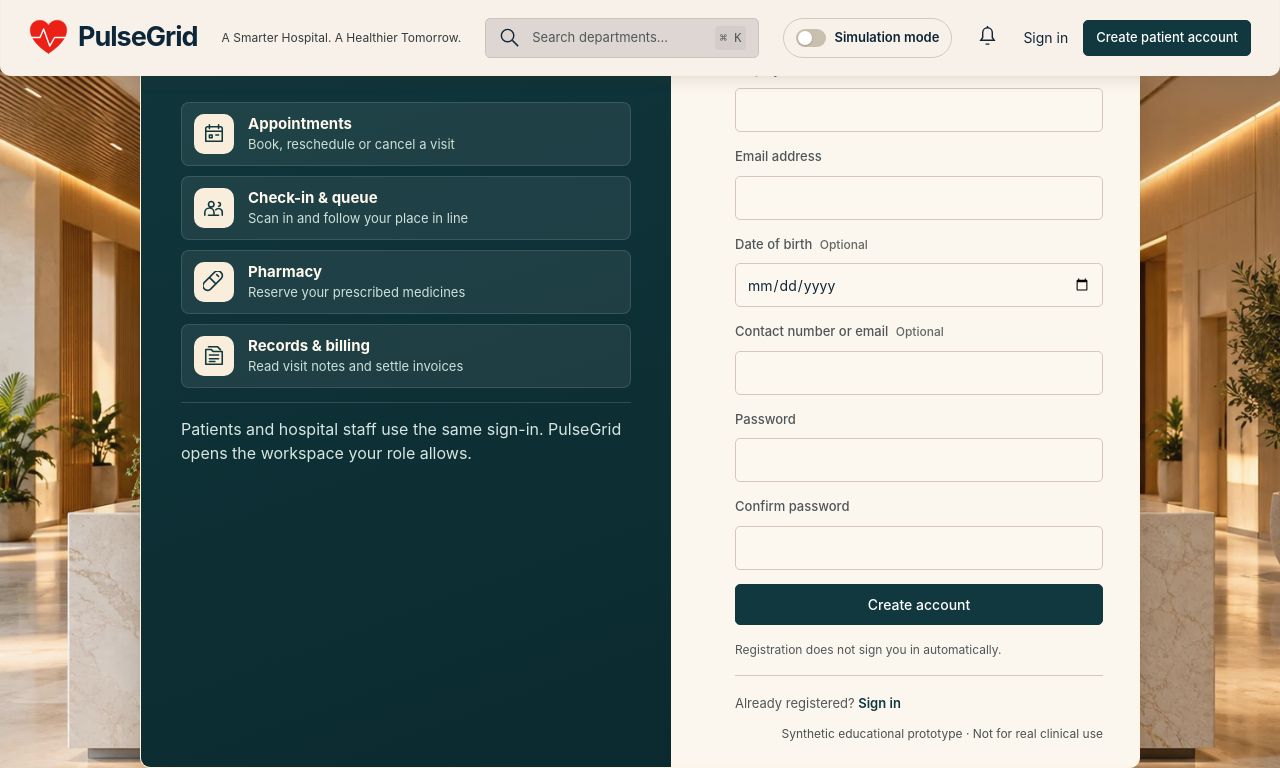
authentication pages › validates registration fields and password confirmation before sending
(page scrolled)
Click the button "Create account": [919, 604] box top-left (735, 584), bottom-right (1103, 625)
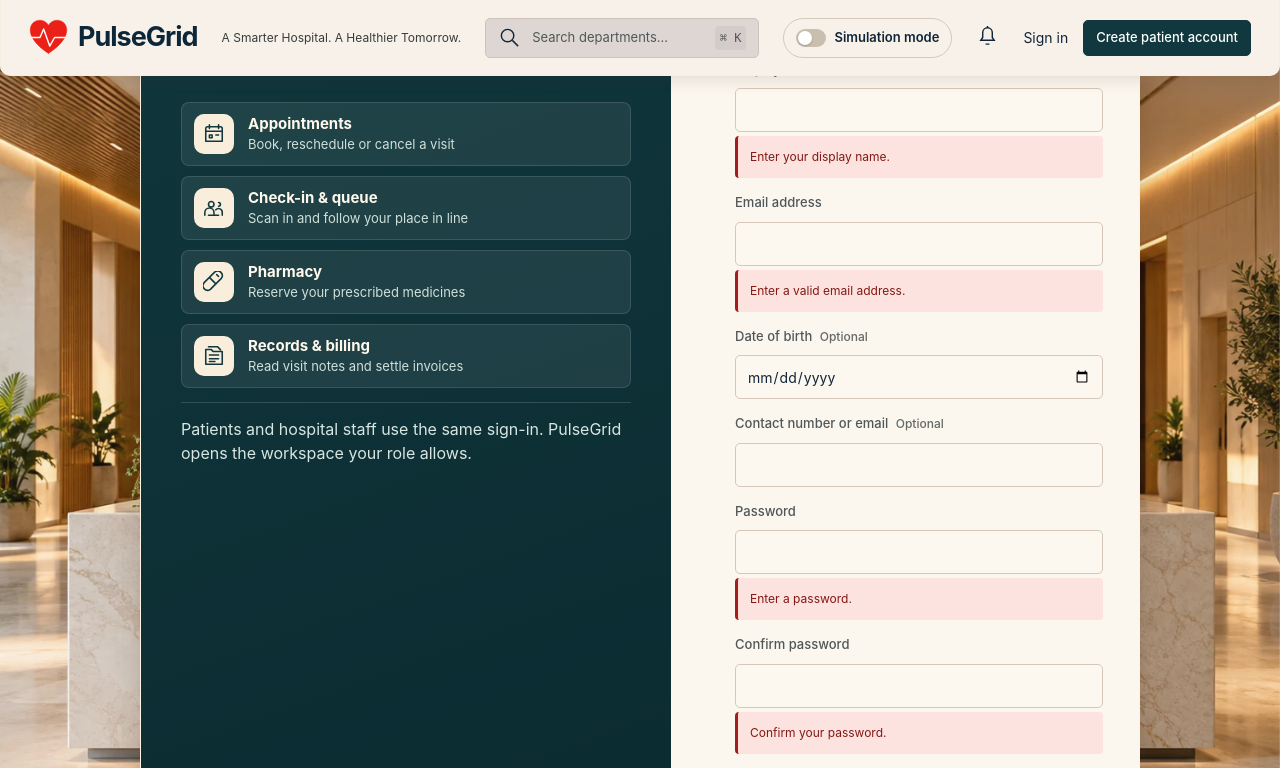
Expected: the text "Enter your display name." is shown, top-left (735, 136), bottom-right (1103, 178)
Expected: the text "Enter a valid email address." is shown, top-left (735, 270), bottom-right (1103, 312)
Expected: the text "Enter a password." is shown, top-left (735, 578), bottom-right (1103, 620)
In the password field labelled "Password": [919, 552] box top-left (735, 530), bottom-right (1103, 574), type "provided-password"
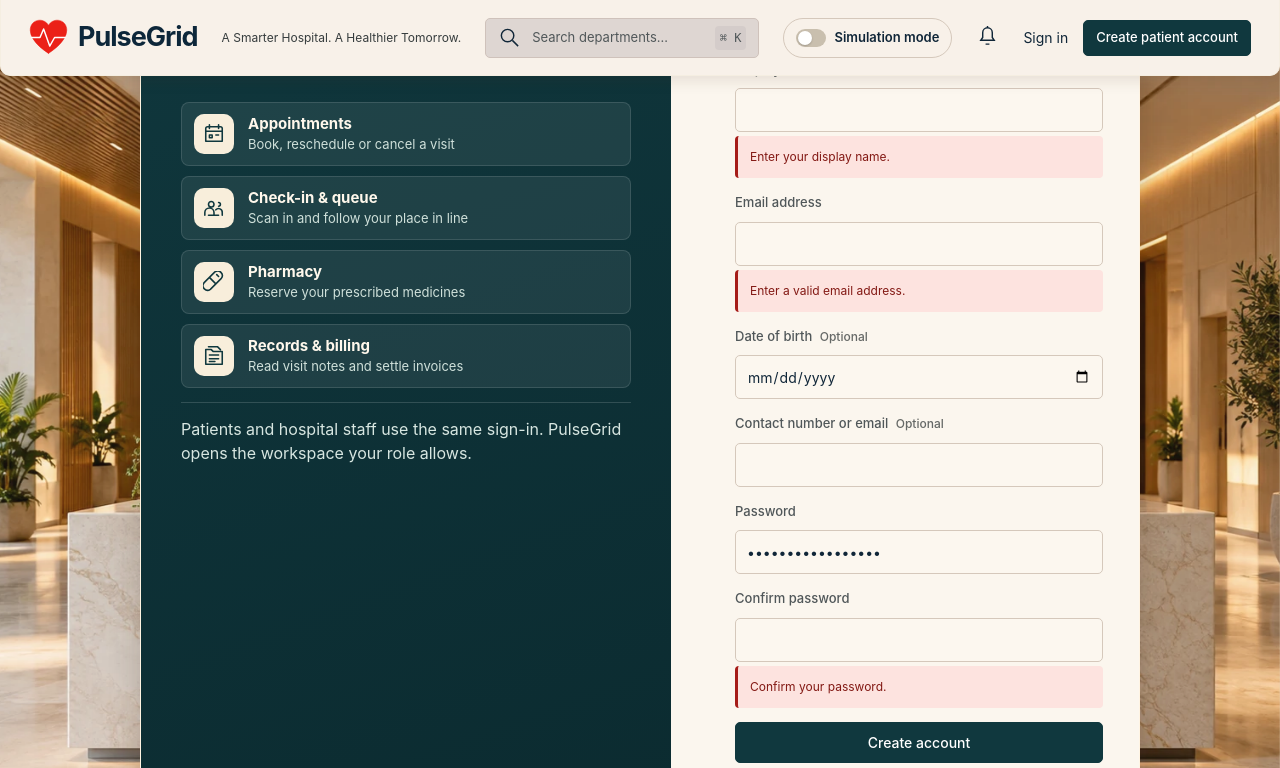
In the password field labelled "Confirm password": [919, 640] box top-left (735, 618), bottom-right (1103, 662), type "different-password"
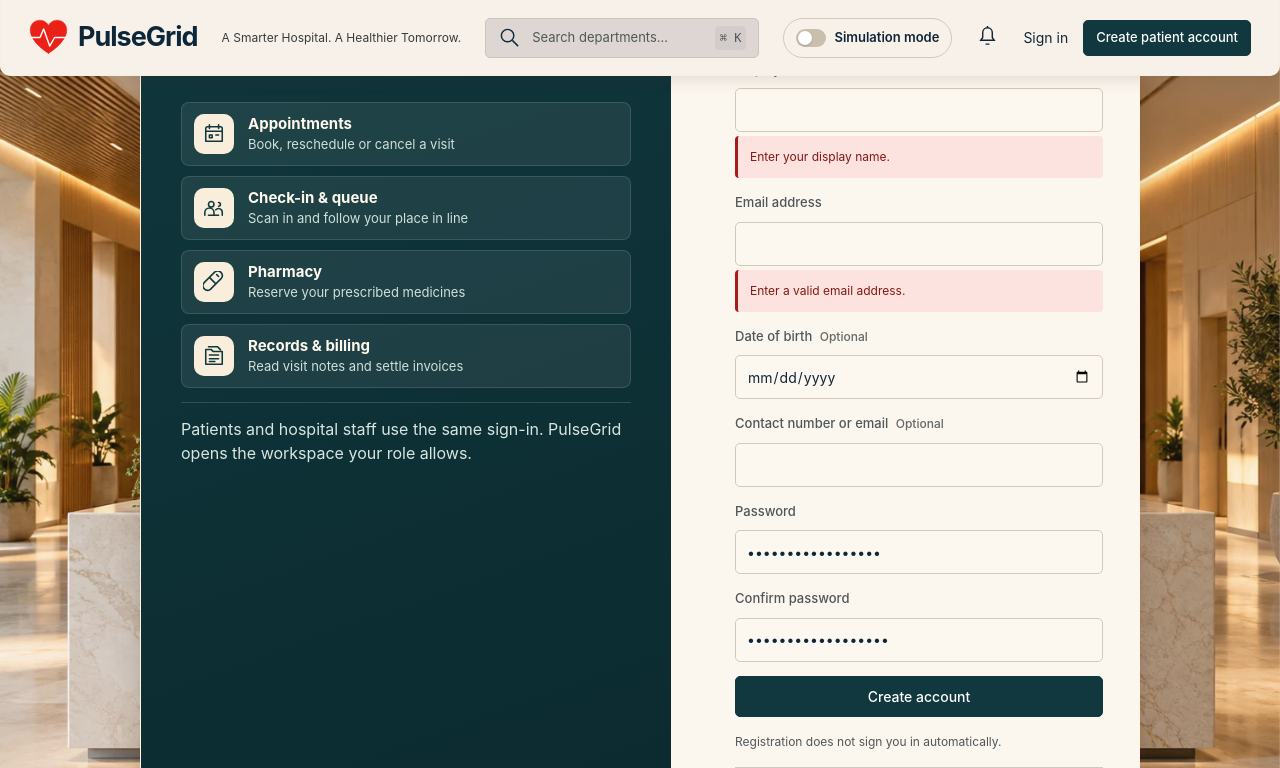
Click the button "Create account": [919, 696] box top-left (735, 676), bottom-right (1103, 717)
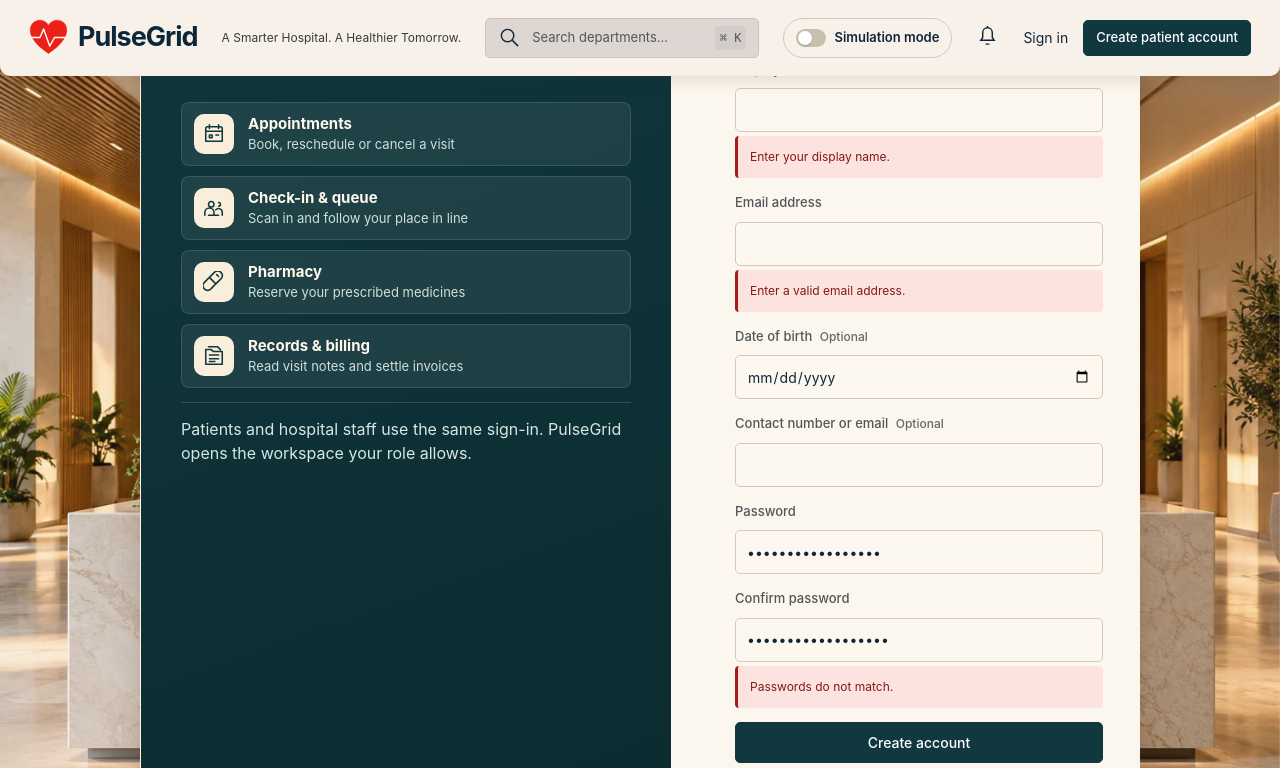
Expected: the text "Passwords do not match." is shown, top-left (735, 666), bottom-right (1103, 708)
